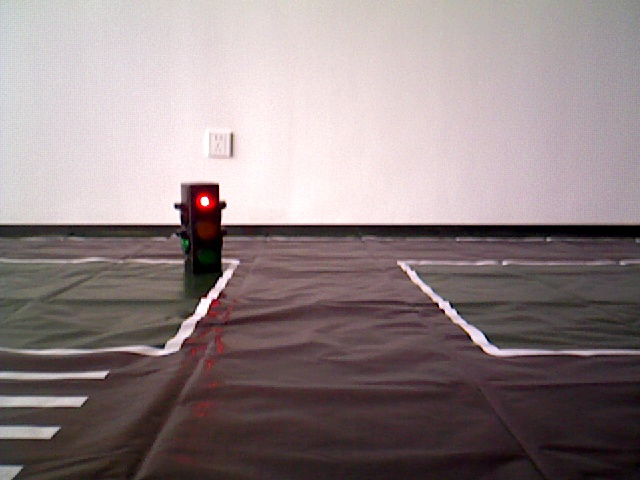red: (181, 185, 221, 279)
